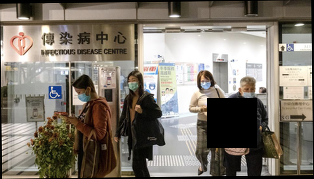with_mask: (126, 75, 141, 92), (242, 84, 256, 102), (74, 88, 88, 103), (200, 77, 211, 90)
